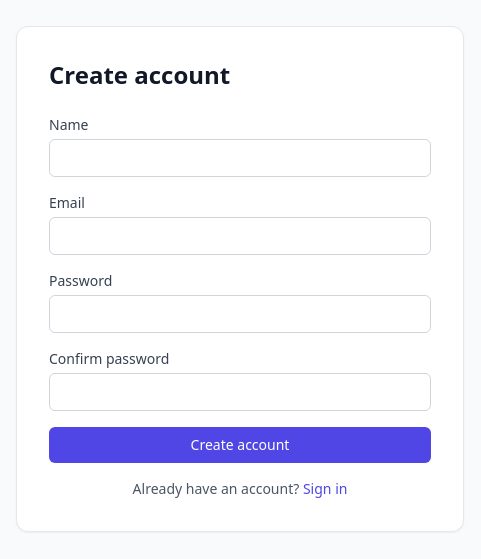
it: RegisterPage › validates password minimum length
The width and height of the screenshot is (481, 559).
Type "Alice" into the field labelled "Name" at point(240, 158), box [49, 139, 431, 177]
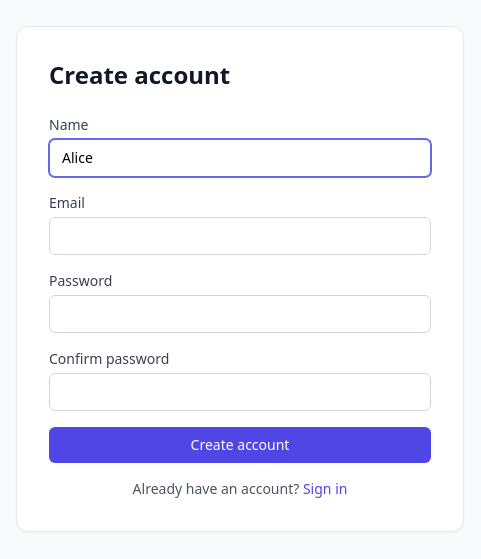
Type "alice@example.com" into the field labelled "Email" at point(240, 236), box [49, 217, 431, 255]
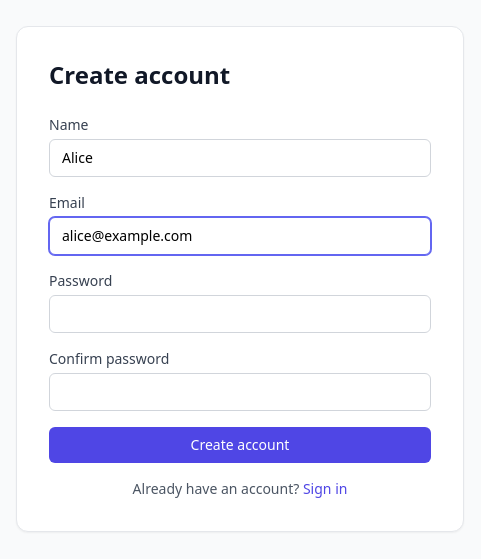
Type "short" into the password field labelled "Password" at point(240, 314), box [49, 295, 431, 333]
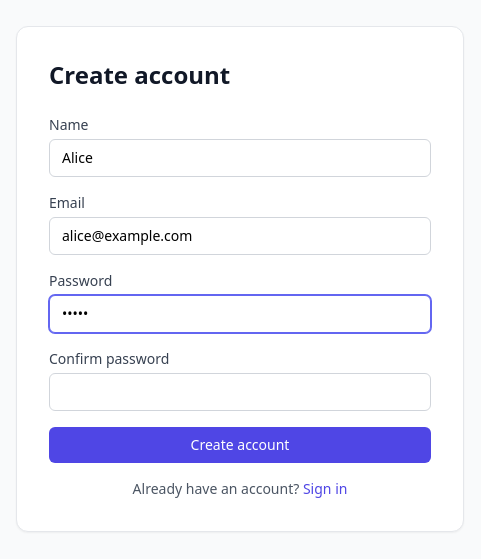
Type "short" into the password field labelled "Confirm password" at point(240, 392), box [49, 373, 431, 411]
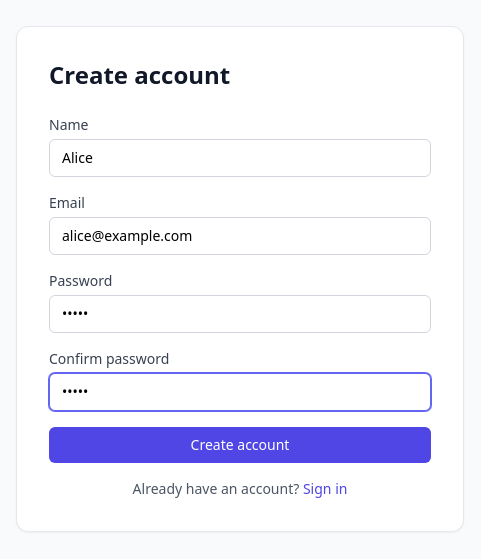
Click the button "Create account" at point(240, 445), box [49, 427, 431, 463]
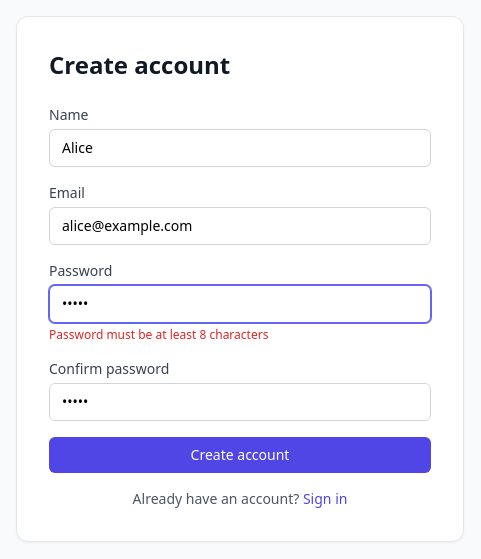
Check: the text "Password must be at least 8 characters" is shown, box [49, 326, 268, 343]
